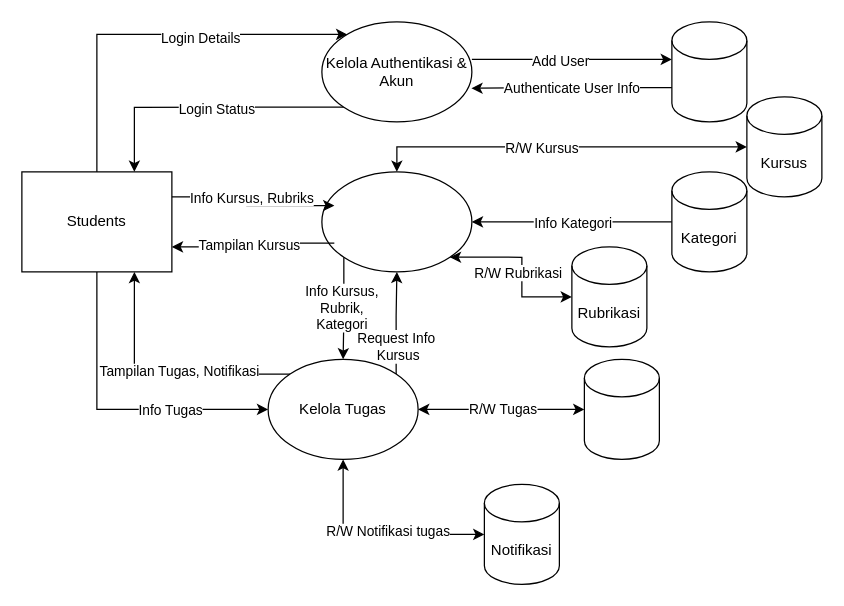
Image size: 844x606. Some labels were removed from this diagram. Each missing label, with the box of its shape:
Kelola Kursus: (321, 171, 472, 272)
Tugas: (583, 358, 659, 459)
Users: (671, 21, 747, 122)
